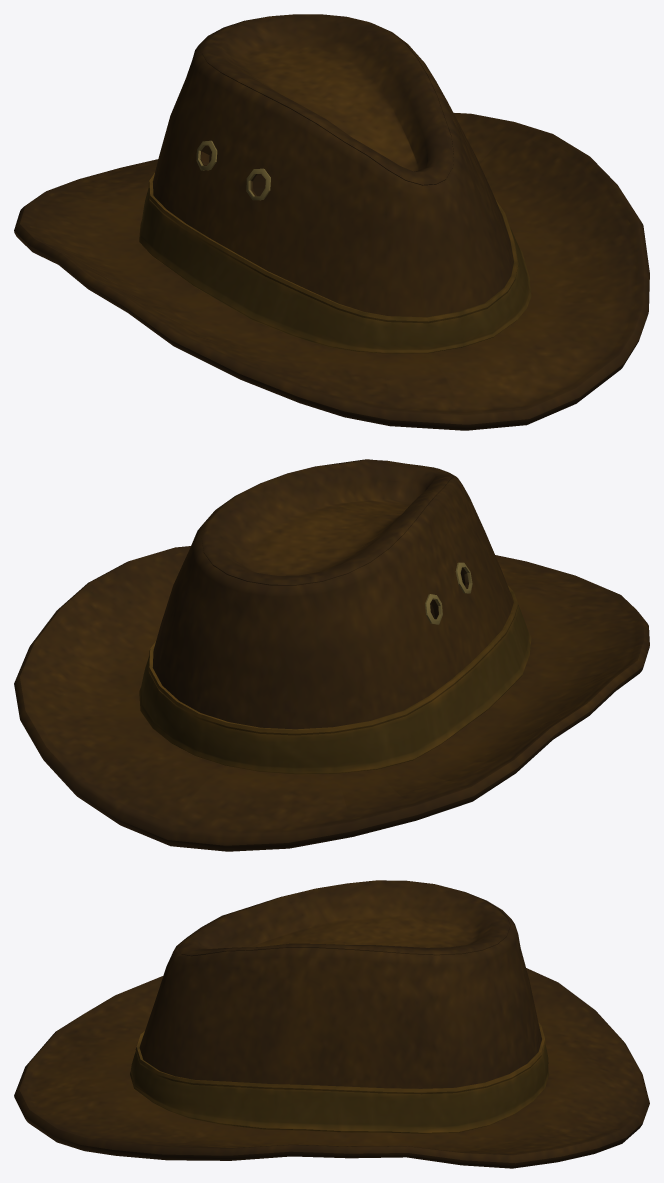
The model's file is hat.glb.
3 renders of one model, top to bottom at view 1: azimuth 30°, elevation 25°; view 2: azimuth 150°, elevation 25°; view 3: azimuth 270°, elevation 25°, orthographic. The views are drawn at different scales.
Parts seen in each view (by area): view 1: Object_2; view 2: Object_2; view 3: Object_2.
Boxes of the visible parts, <box> form: Object_2: <box>14,14,649,430</box>; Object_2: <box>14,459,649,851</box>; Object_2: <box>14,880,649,1168</box>.
Size of the model in its own units: 0.3402 by 0.1482 by 0.4208.
1 material, 1 textured.
